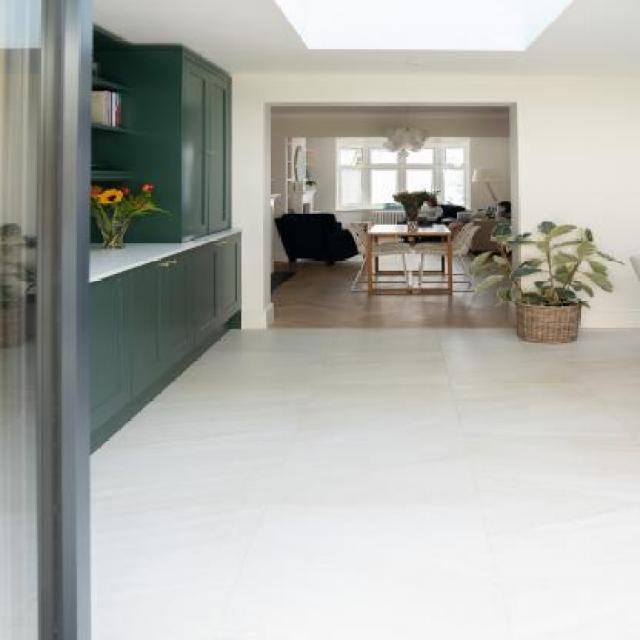Floor: (88, 255, 640, 640), (470, 252, 507, 289), (403, 238, 421, 270), (378, 254, 404, 270), (461, 248, 477, 273), (423, 254, 442, 270), (372, 274, 406, 281), (452, 258, 466, 274), (372, 282, 407, 288), (452, 282, 474, 290), (422, 275, 448, 281), (421, 283, 448, 288), (412, 274, 421, 288), (452, 274, 469, 281), (353, 282, 367, 290), (356, 274, 368, 280), (444, 256, 448, 274), (372, 258, 375, 274)
